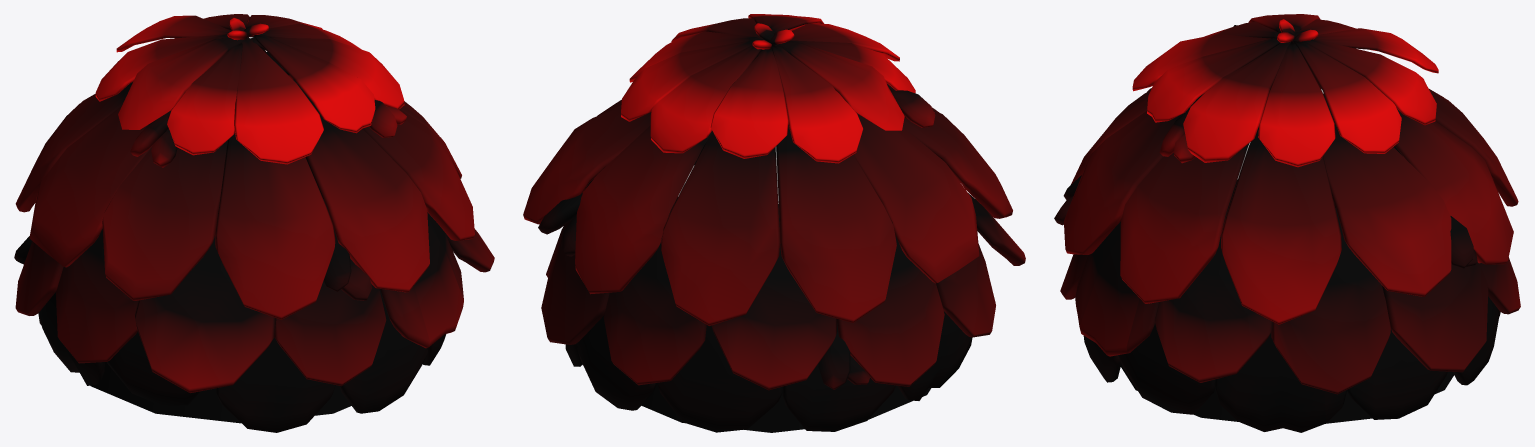
File: SM_HealthyBush_01_LOD1.fbx
3 views of the same model, side by side, from view 1: azimuth 30°, elevation 25°; view 2: azimuth 150°, elevation 25°; view 3: azimuth 270°, elevation 25° (orthographic).
Parts seen in each view (by area): view 1: Bush_01_LOD1; view 2: Bush_01_LOD1; view 3: Bush_01_LOD1.
Part boxes in pixels (bbox=[...]): Bush_01_LOD1: bbox=[14, 14, 494, 432]; Bush_01_LOD1: bbox=[523, 14, 1025, 432]; Bush_01_LOD1: bbox=[1054, 14, 1520, 432].
Bounding box in the file's own units: 211 × 165 × 211.
